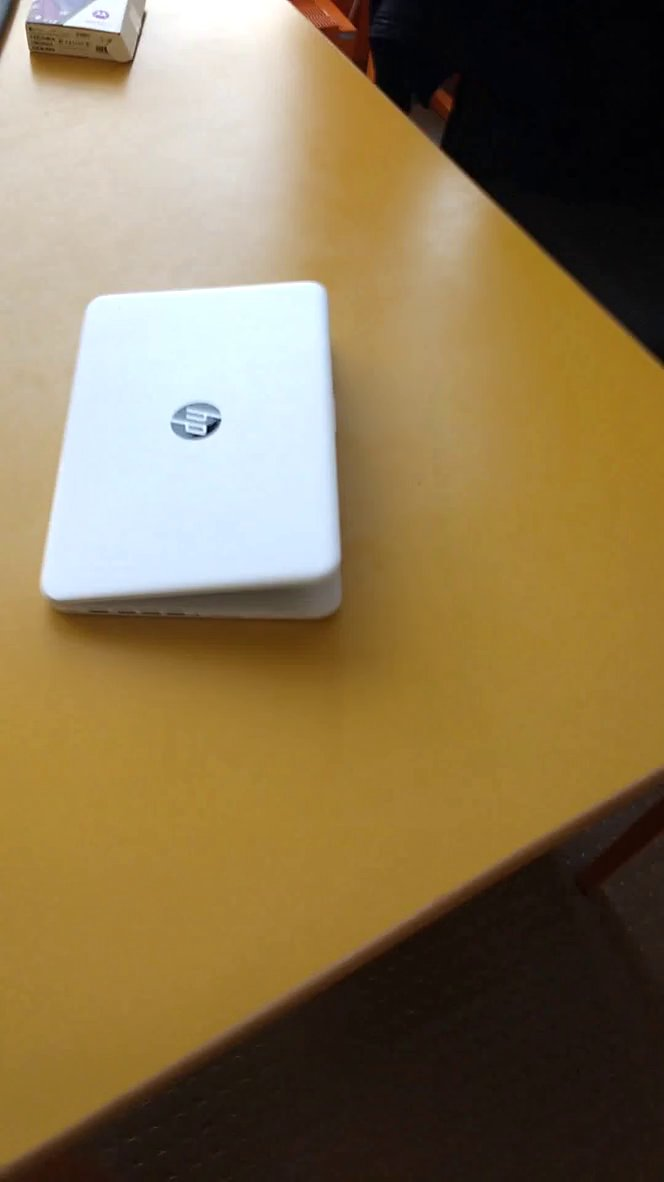laptop: (31, 269, 423, 663)
